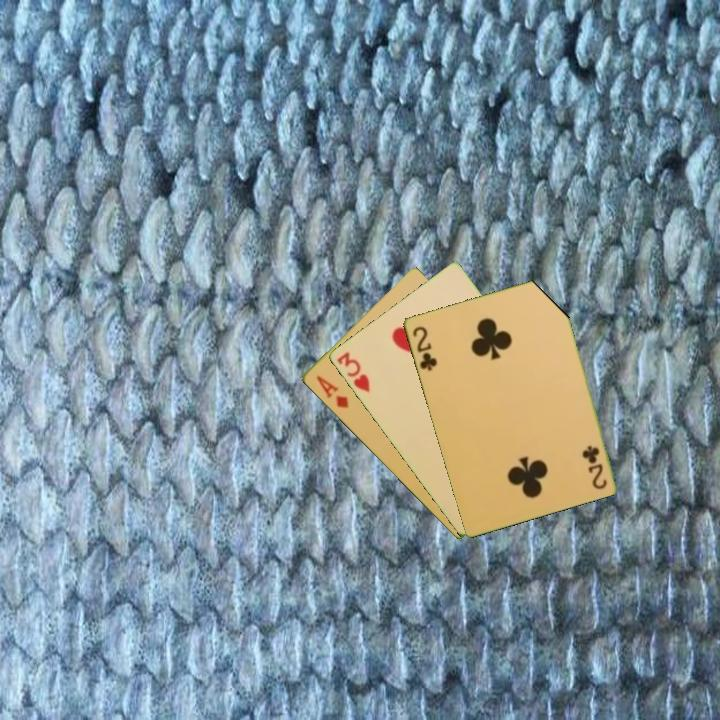2c: (409, 322, 440, 374), (581, 442, 609, 492)
3h: (333, 348, 373, 395)
Ad: (312, 372, 351, 411)
